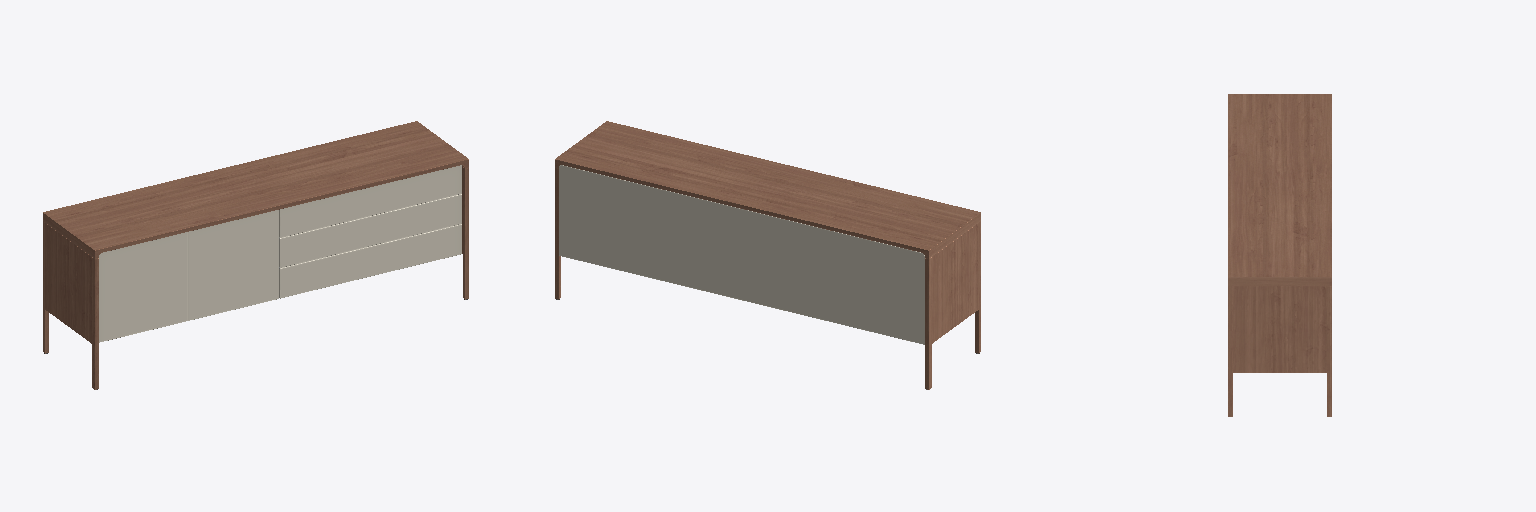
3 views of the same model, side by side, from view 1: azimuth 30°, elevation 25°; view 2: azimuth 150°, elevation 25°; view 3: azimuth 270°, elevation 25° (orthographic).
Parts seen in each view (by area): view 1: solid_002, solid_003; view 2: solid_002, solid_003; view 3: solid_003.
Boxes of the visible parts, x1,y1,x2,y2 form: solid_002: [99, 165, 461, 342]; solid_003: [43, 121, 468, 389]; solid_002: [559, 165, 924, 344]; solid_003: [555, 121, 980, 389]; solid_003: [1228, 94, 1331, 416].
Bounding box in the file's own units: 2 × 0.7172 × 0.4841.
1 materials, 1 textured.